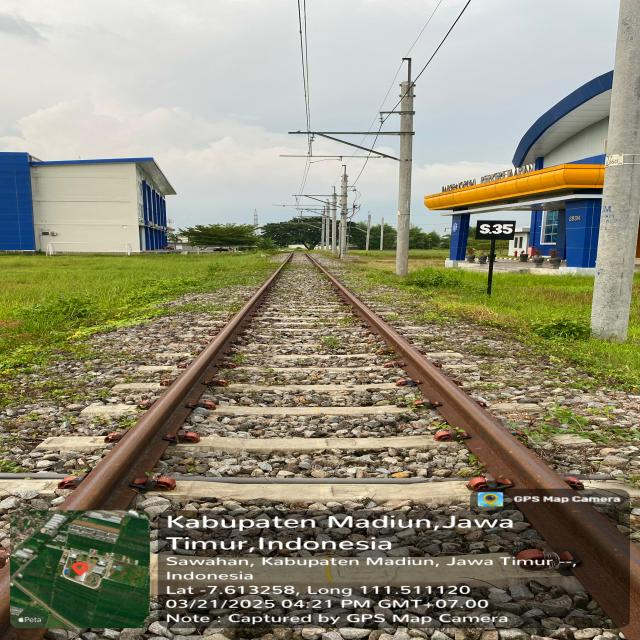rail-detection: (306, 253, 640, 634), (61, 254, 292, 510)
